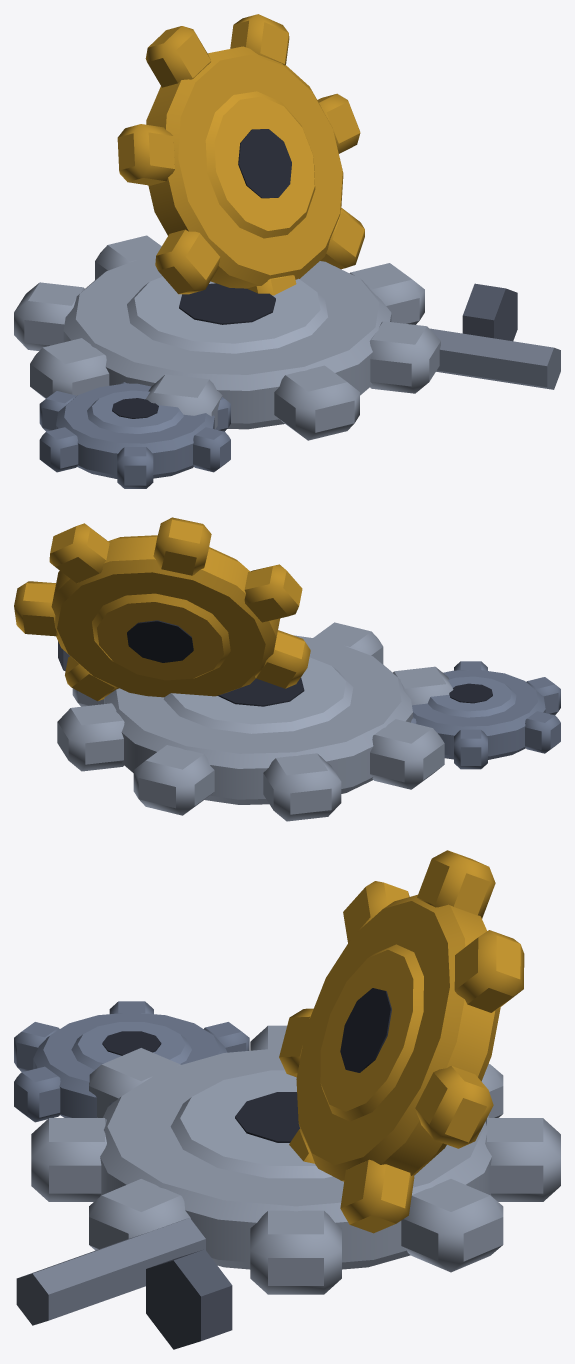
Rendered from p_pile_parts.glb.
3 renders of one model, top to bottom at view 1: azimuth 30°, elevation 25°; view 2: azimuth 150°, elevation 25°; view 3: azimuth 270°, elevation 25°, orthographic. The views are drawn at different scales.
Visible parts, largest first — view 1: body; view 2: body; view 3: body.
Boxes of the visible parts, x1,y1,x2,y2 form: body: [14, 14, 560, 488]; body: [14, 517, 560, 821]; body: [14, 850, 560, 1349].
Size of the model in its own units: 1.73 by 0.9883 by 1.33.
